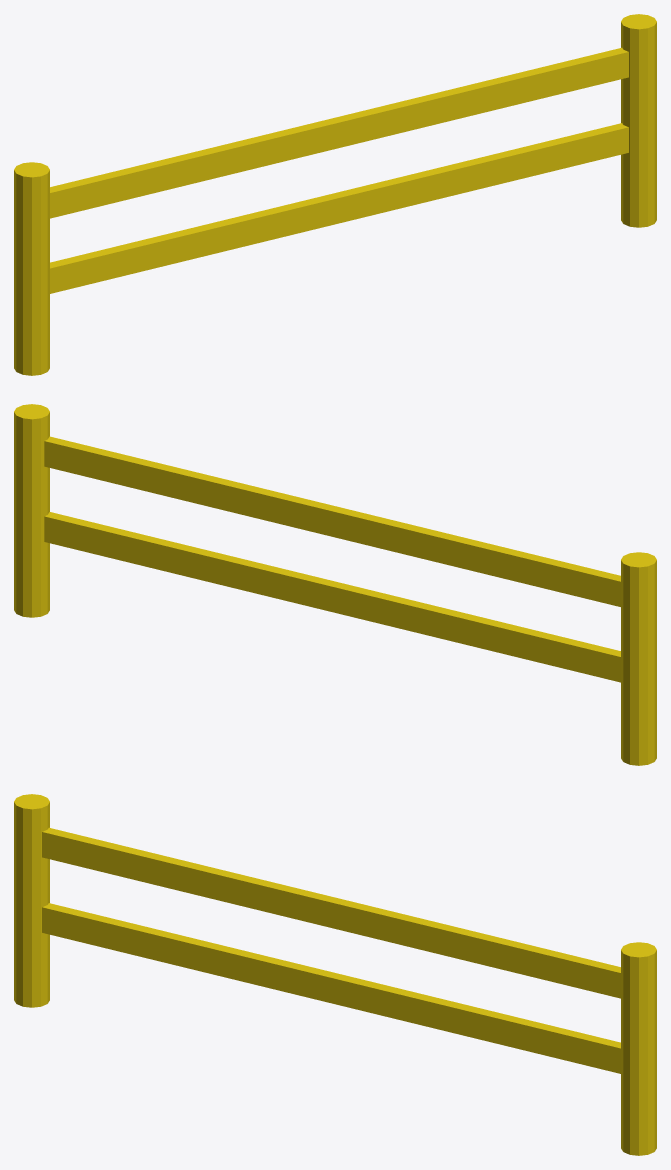
The model's file is Barrier3sq.fbx.
3 views of the same model, one above another, from view 1: azimuth 30°, elevation 25°; view 2: azimuth 150°, elevation 25°; view 3: azimuth 330°, elevation 25° (orthographic).
Parts seen in each view (by area): view 1: Barrier3sq; view 2: Barrier3sq; view 3: Barrier3sq.
Part boxes in pixels (x1,y1,x2,y2): Barrier3sq: (14, 14, 656, 375); Barrier3sq: (14, 404, 656, 765); Barrier3sq: (14, 794, 656, 1155).
Bounding box in the file's own units: 3.58 × 0.1755 × 1.07.
